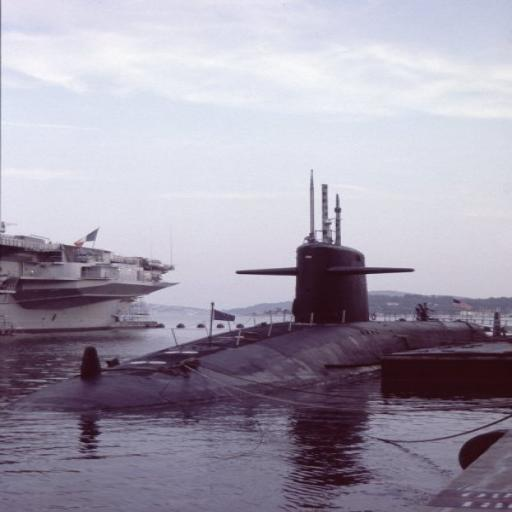submarine: (6, 170, 500, 411)
